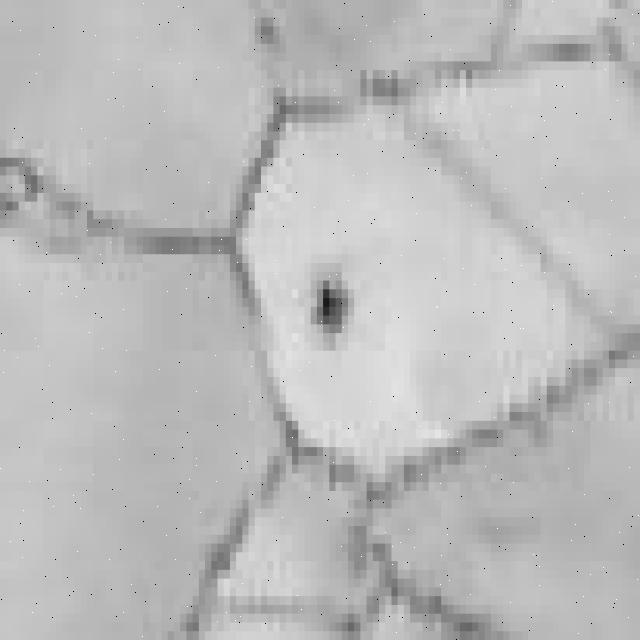good_void: (308, 270, 355, 345)
